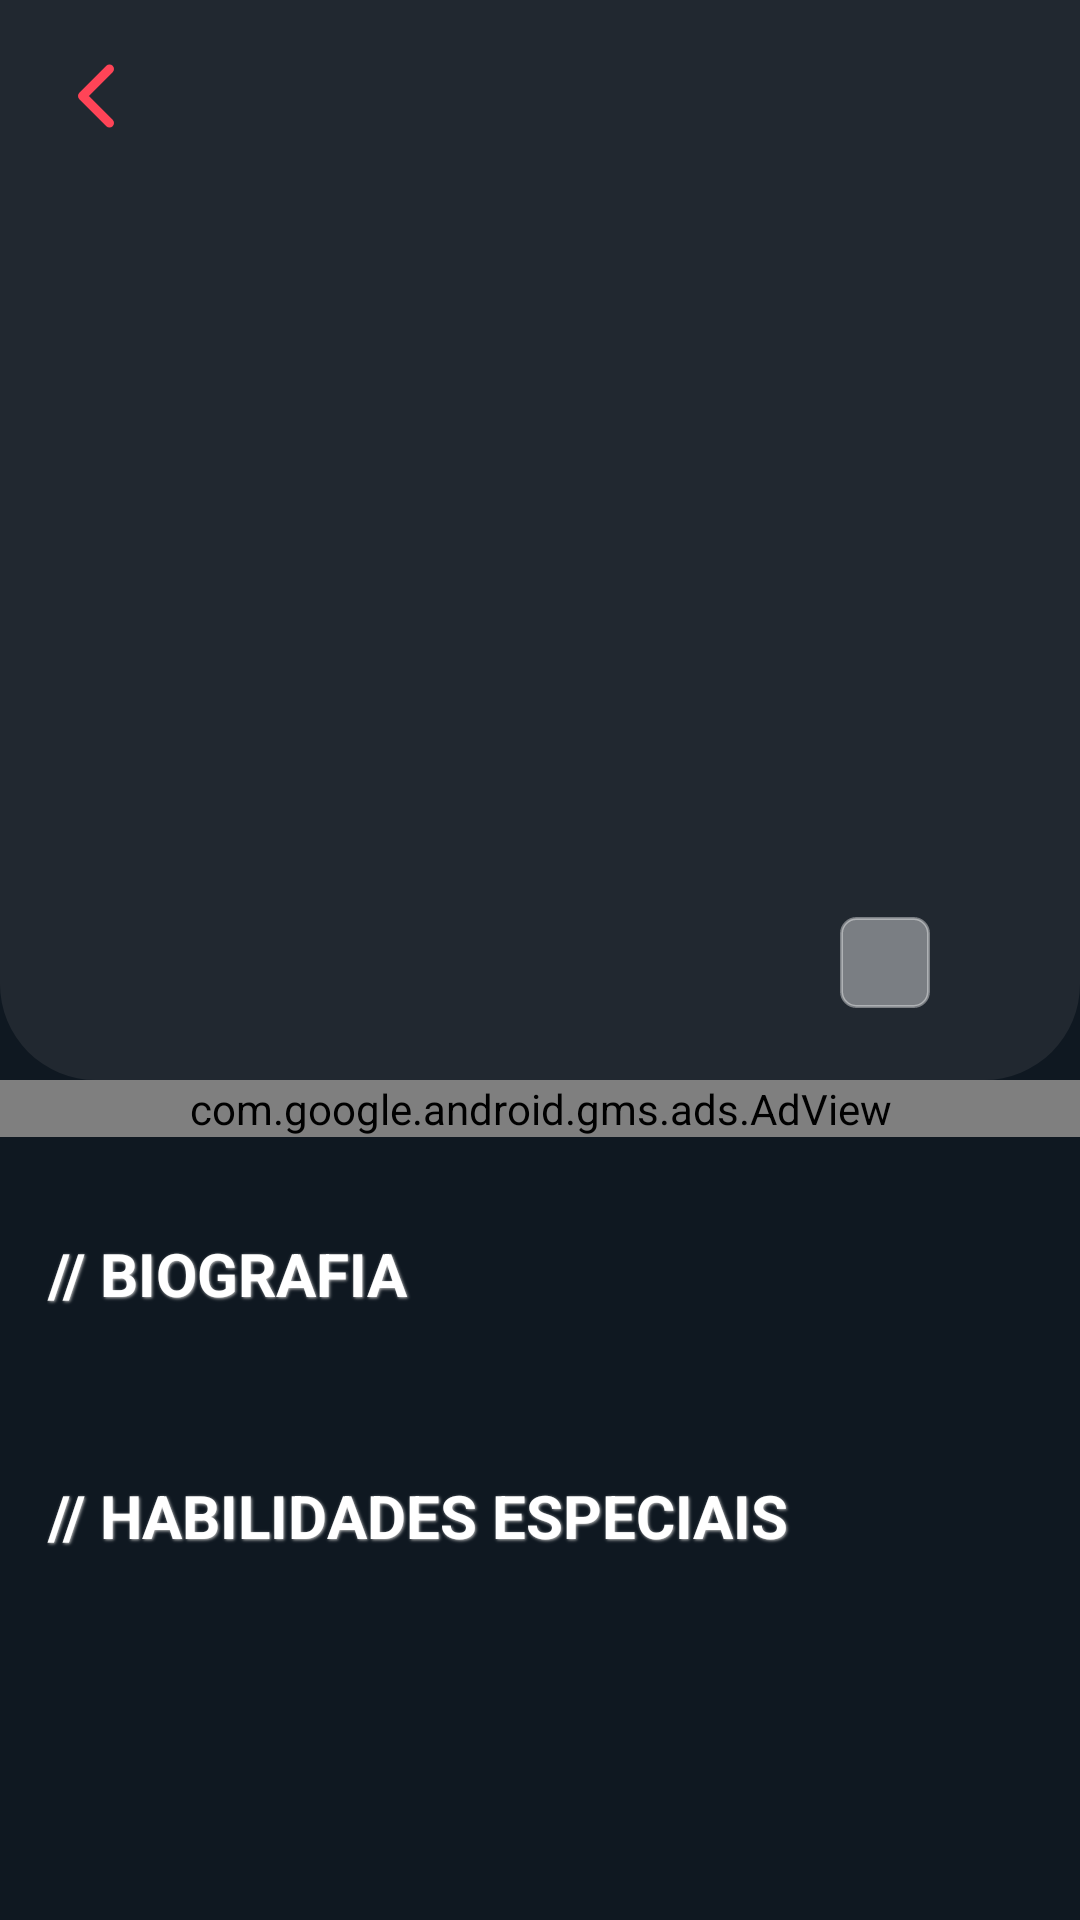

Screen size 1080x1920. Icon name, then its box in pixels as [left=x1, top=y1, right=x2, bottom=y2]:
back: [left=78, top=64, right=114, bottom=128]
